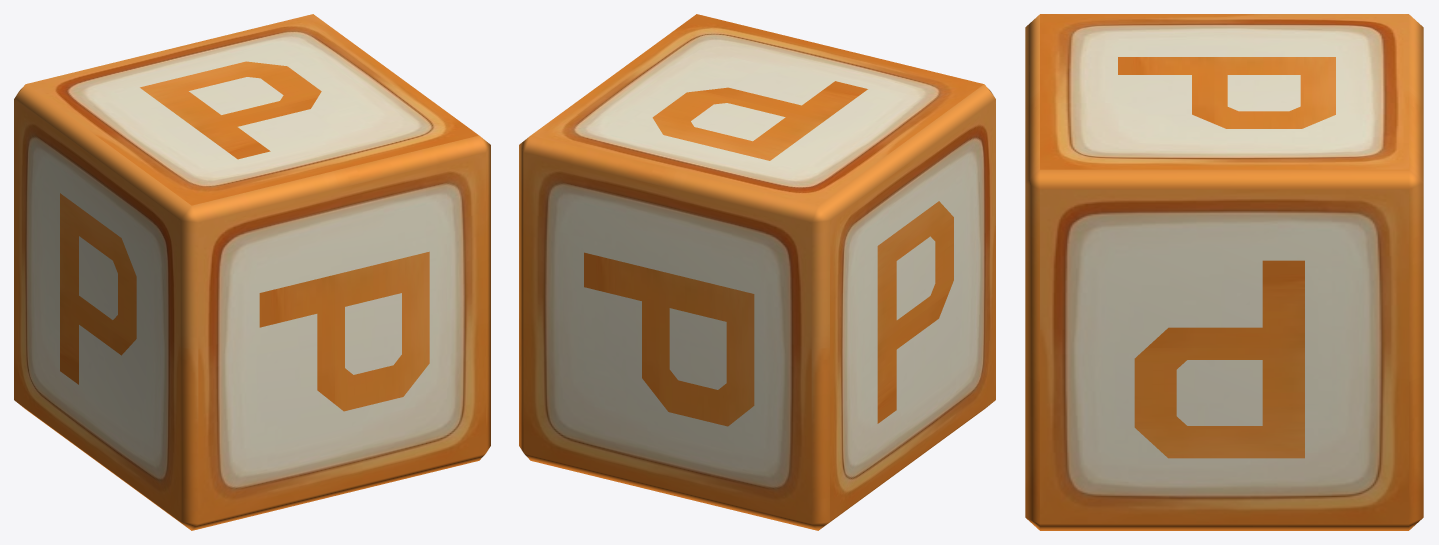
Rendered from CubeP.glb.
3 renders of one model, left to right at view 1: azimuth 30°, elevation 25°; view 2: azimuth 150°, elevation 25°; view 3: azimuth 270°, elevation 25°, orthographic. The views are drawn at different scales.
Visible parts, largest first — view 1: CubeP; view 2: CubeP; view 3: CubeP.
Boxes of the visible parts, x1,y1,x2,y2 form: CubeP: (14,14,490,530); CubeP: (519,14,995,530); CubeP: (1025,14,1423,530).
Size of what is drawn, in the model's own units: 0.513 by 0.513 by 0.513.
1 material, 1 textured.
